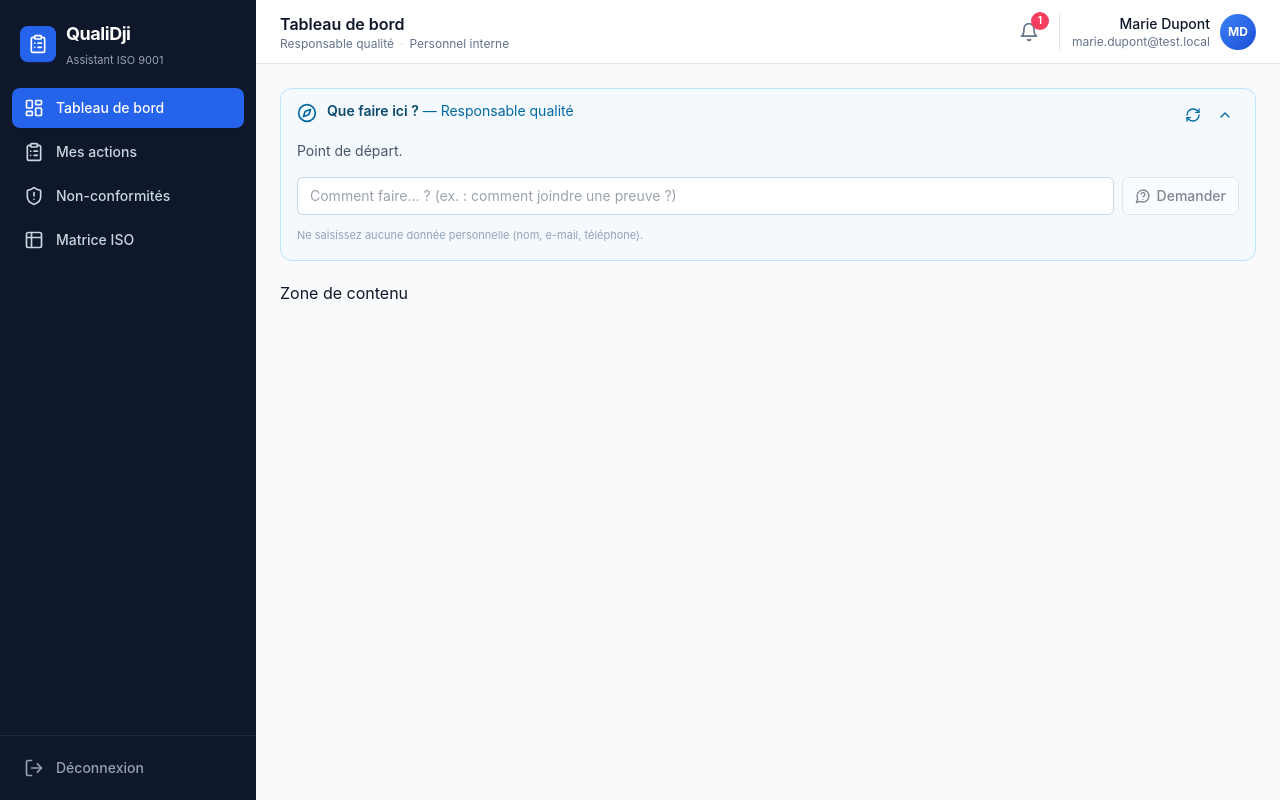
Scenario: Layout › la cloche affiche le compteur de notifications non lues
Click the button named "Notifications": (1029, 32) [1011,14,1047,50]
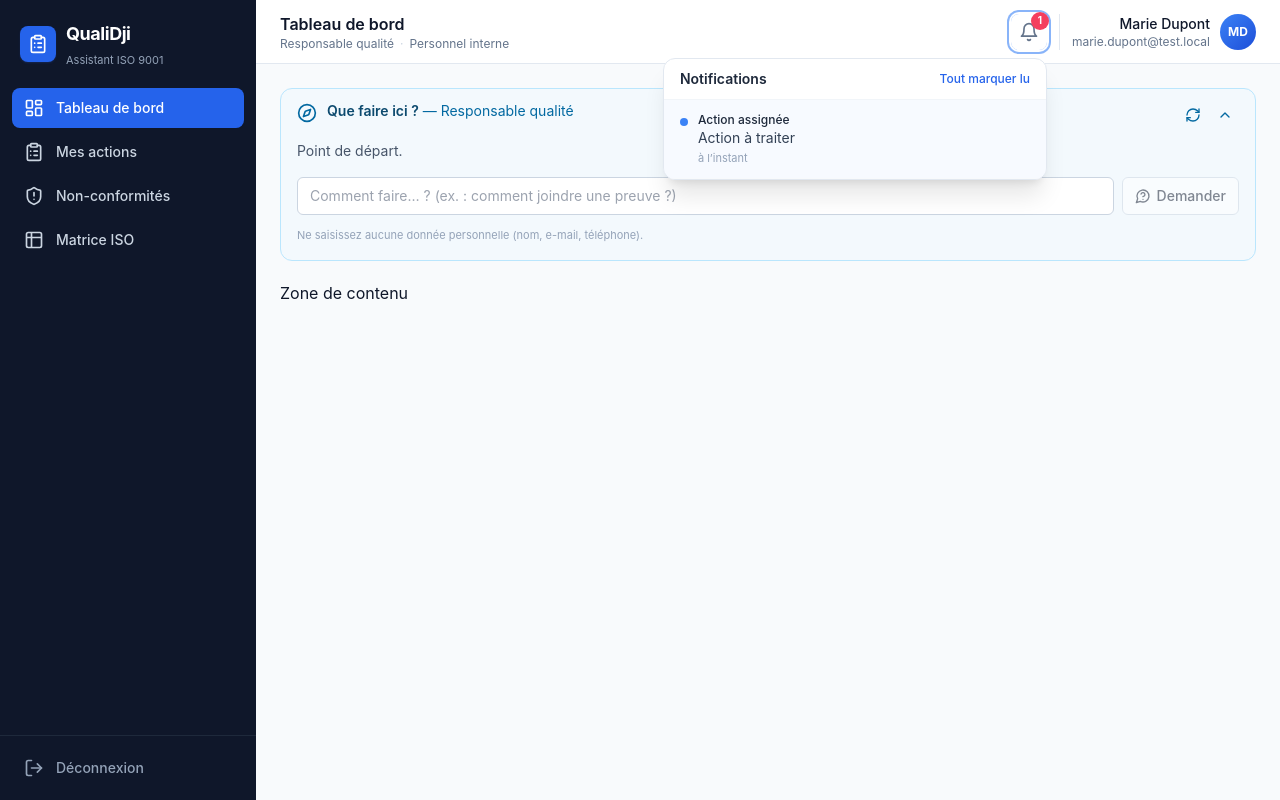
Now the text "Action assignée" is shown, box [698,112,795,128]
Now the text "Action à traiter" is shown, box [698,128,795,148]
